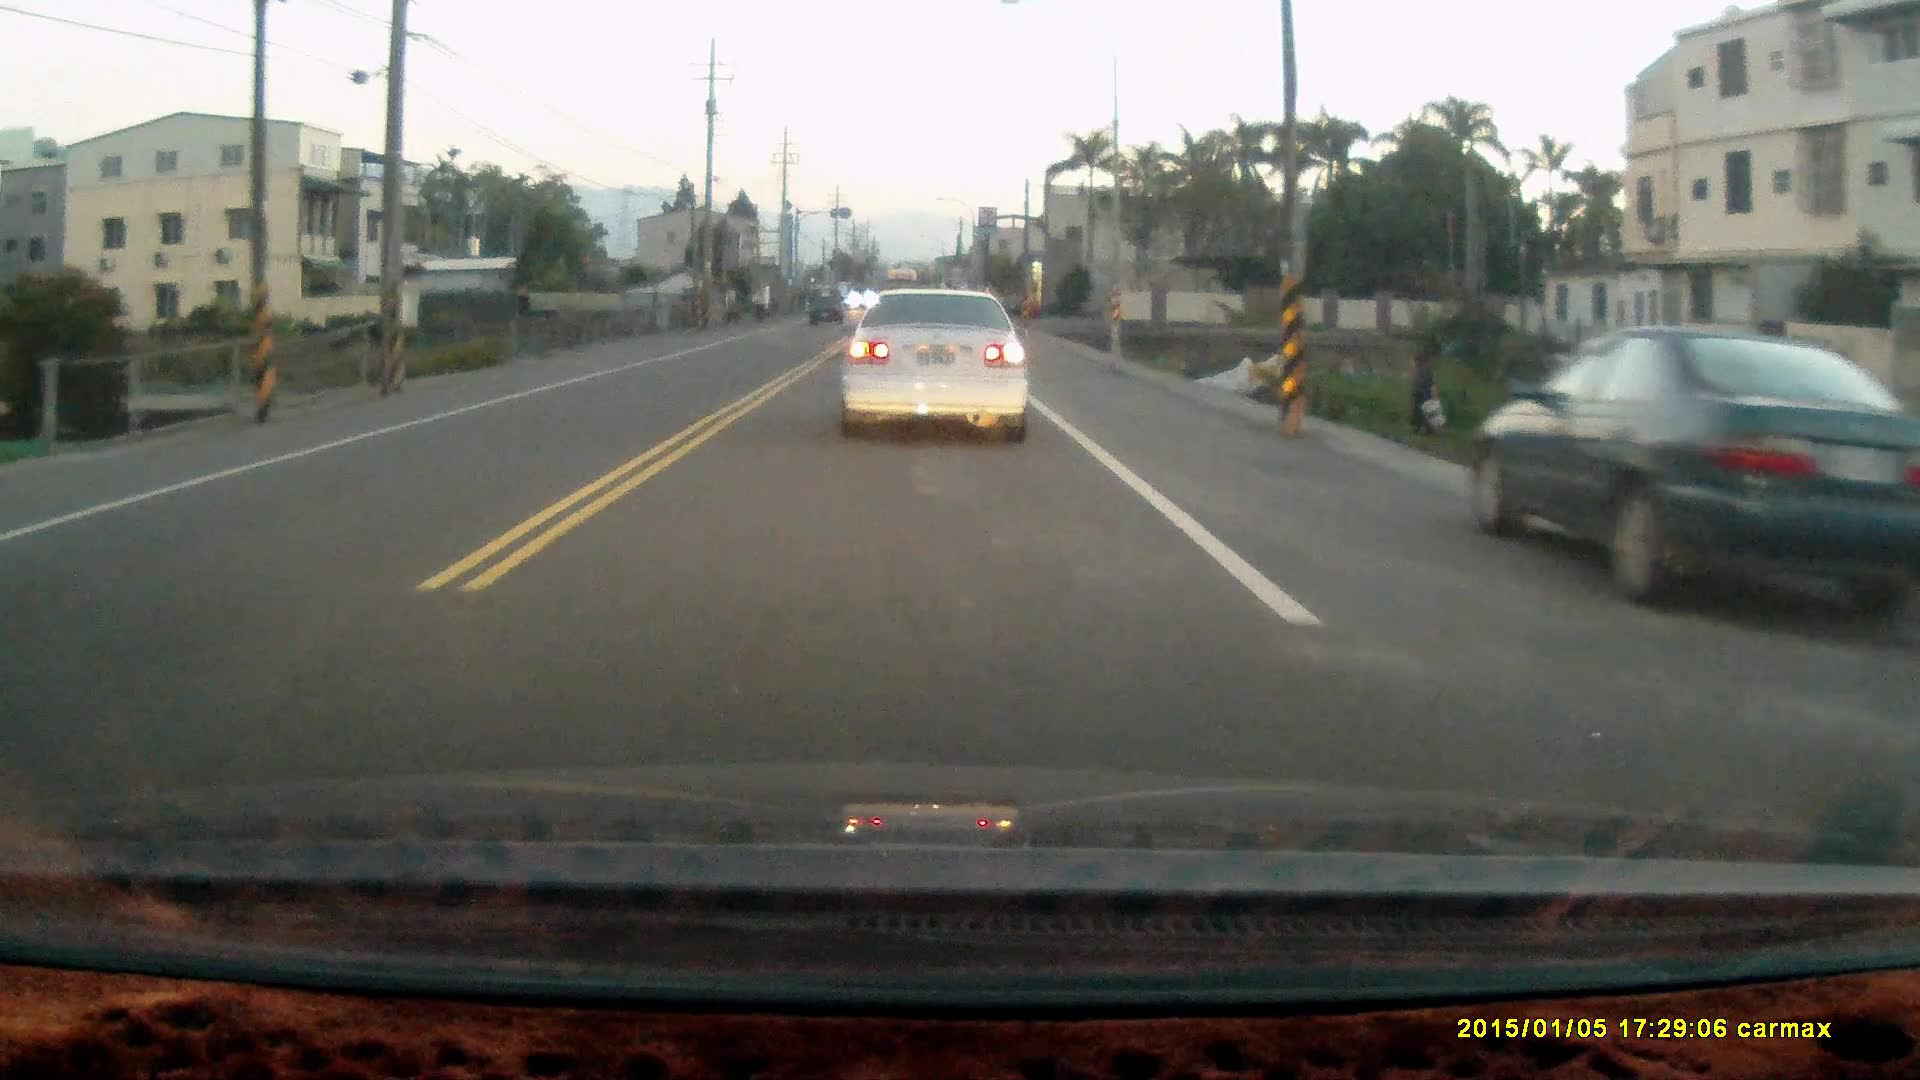pedestrian: (1408, 352, 1440, 432)
vehicle: (1473, 325, 1920, 618), (842, 288, 1035, 436), (807, 290, 846, 332)
